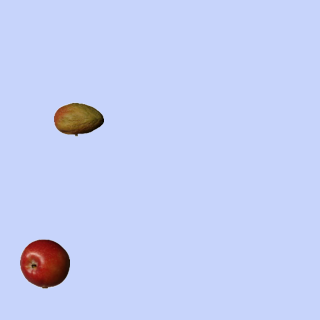Apple Braeburn: (19, 238, 69, 288)
Papaya: (53, 94, 103, 144)
